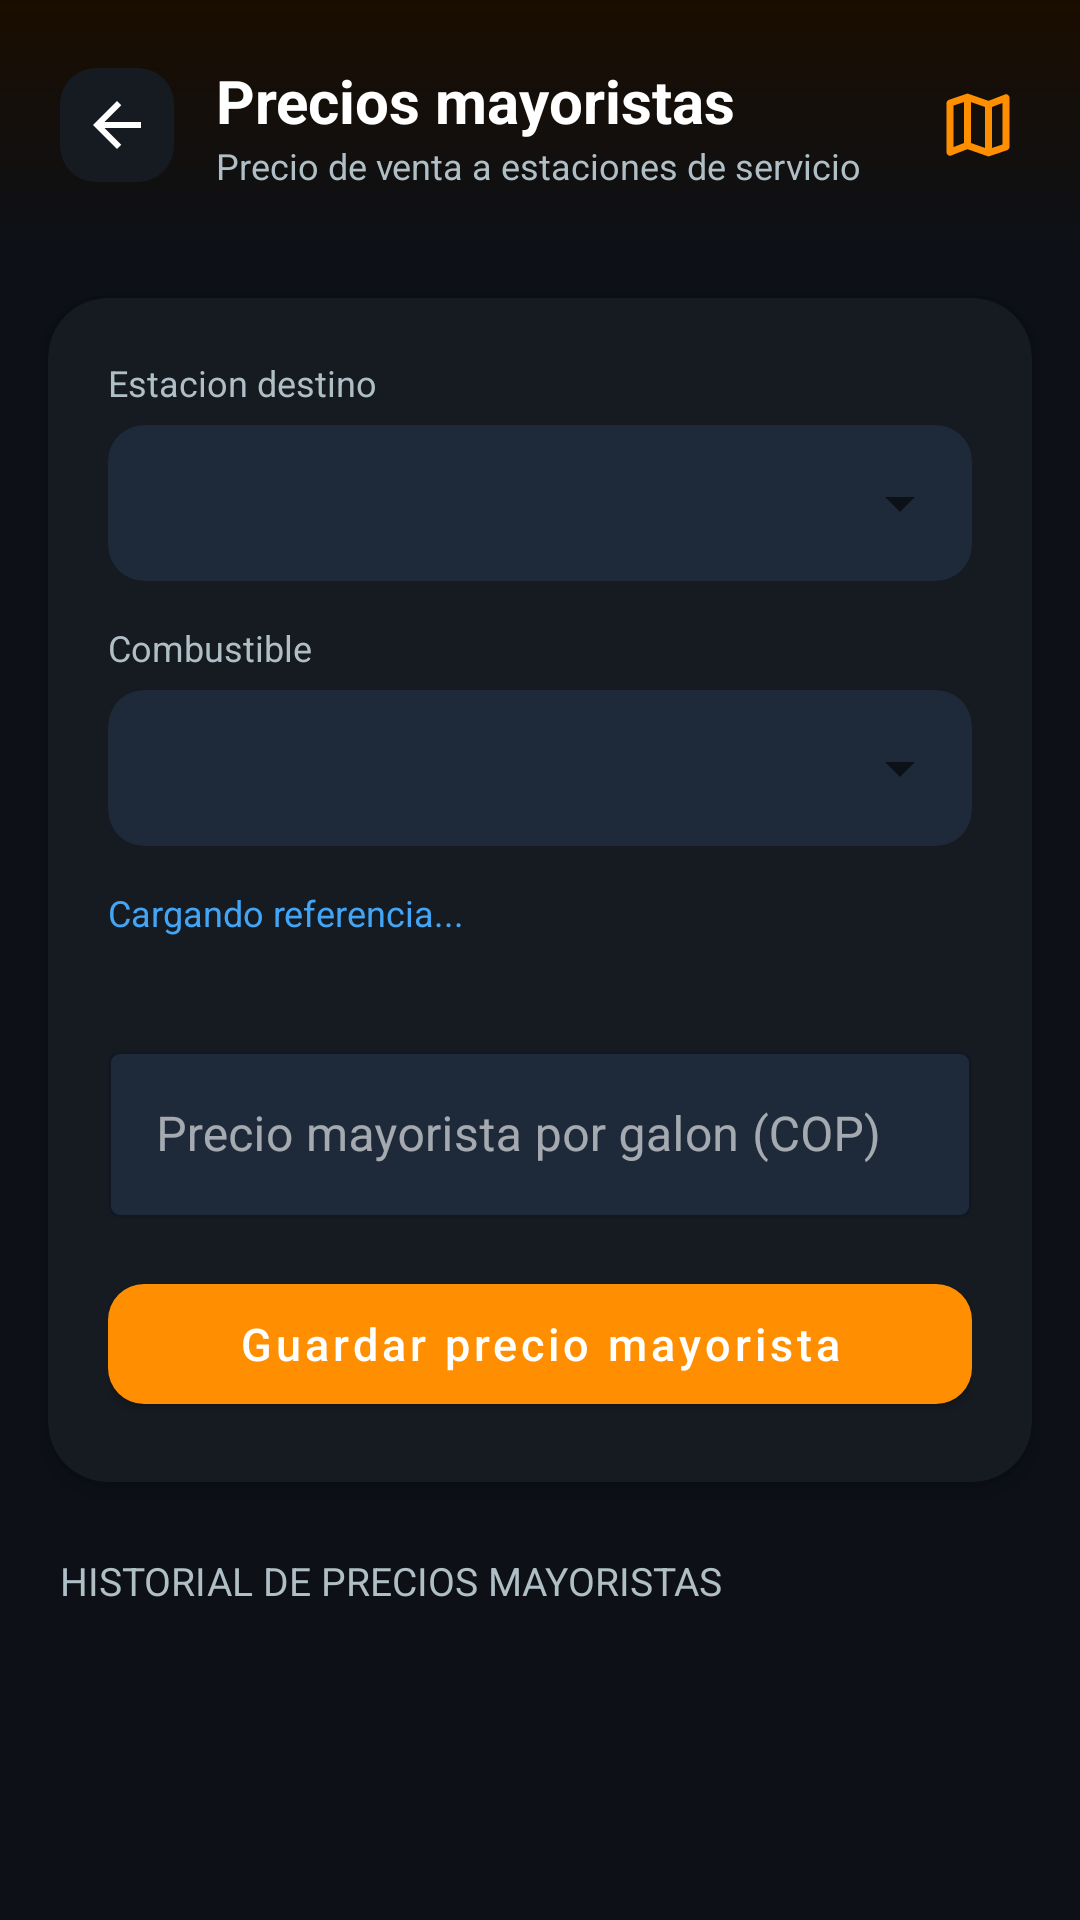

Icons on this 1080x1920 Android screen, each with the point to tap as (x=x, y=y):
Volver: (x=117, y=125)
